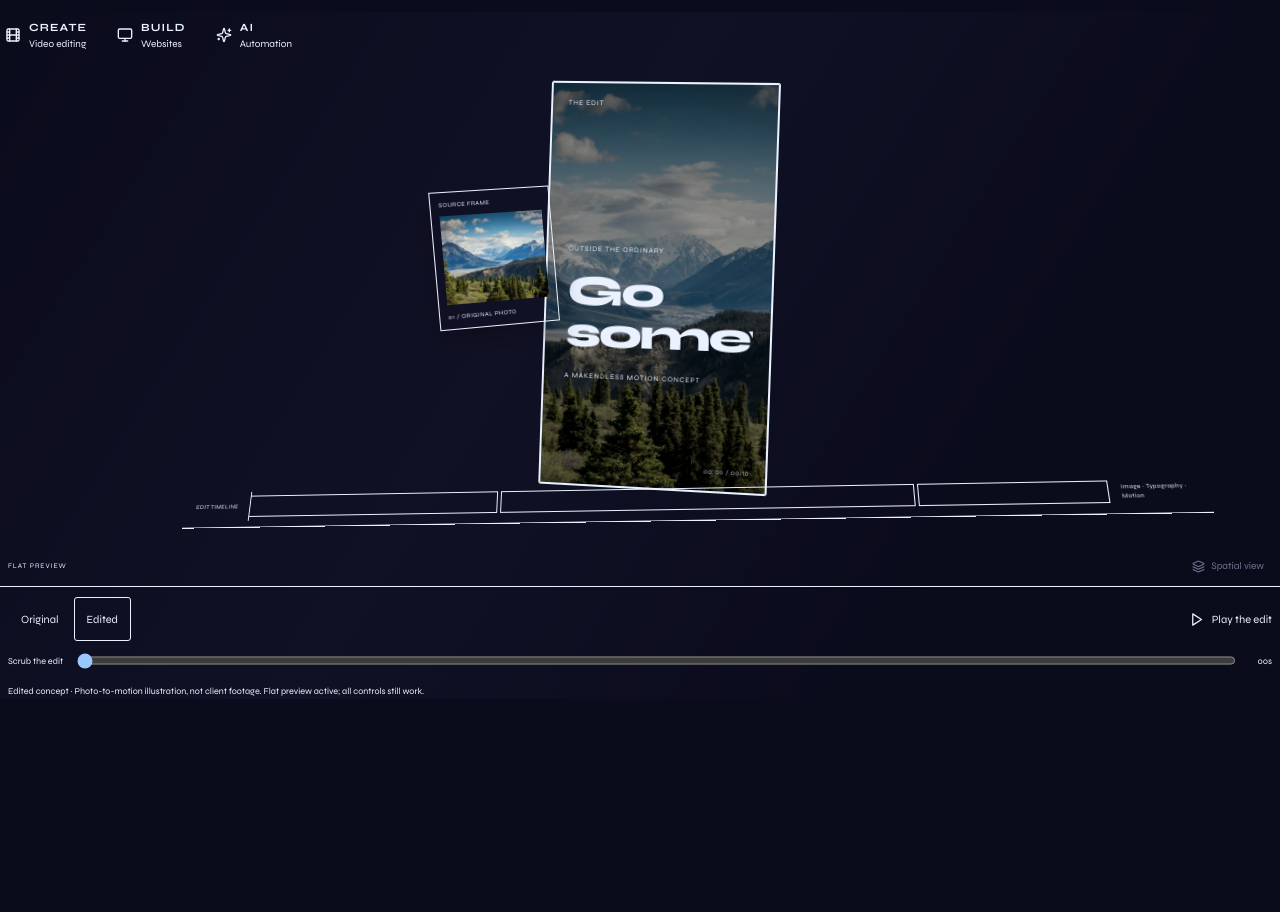
it: Living Showcase: service-led interactions and fallbacks › uses the homepage palette in the spatial preview and retains a working flat fallback
Earlier steps of the test are not shown.
Click the button "Original" at (40, 619), box [8,597,72,641]
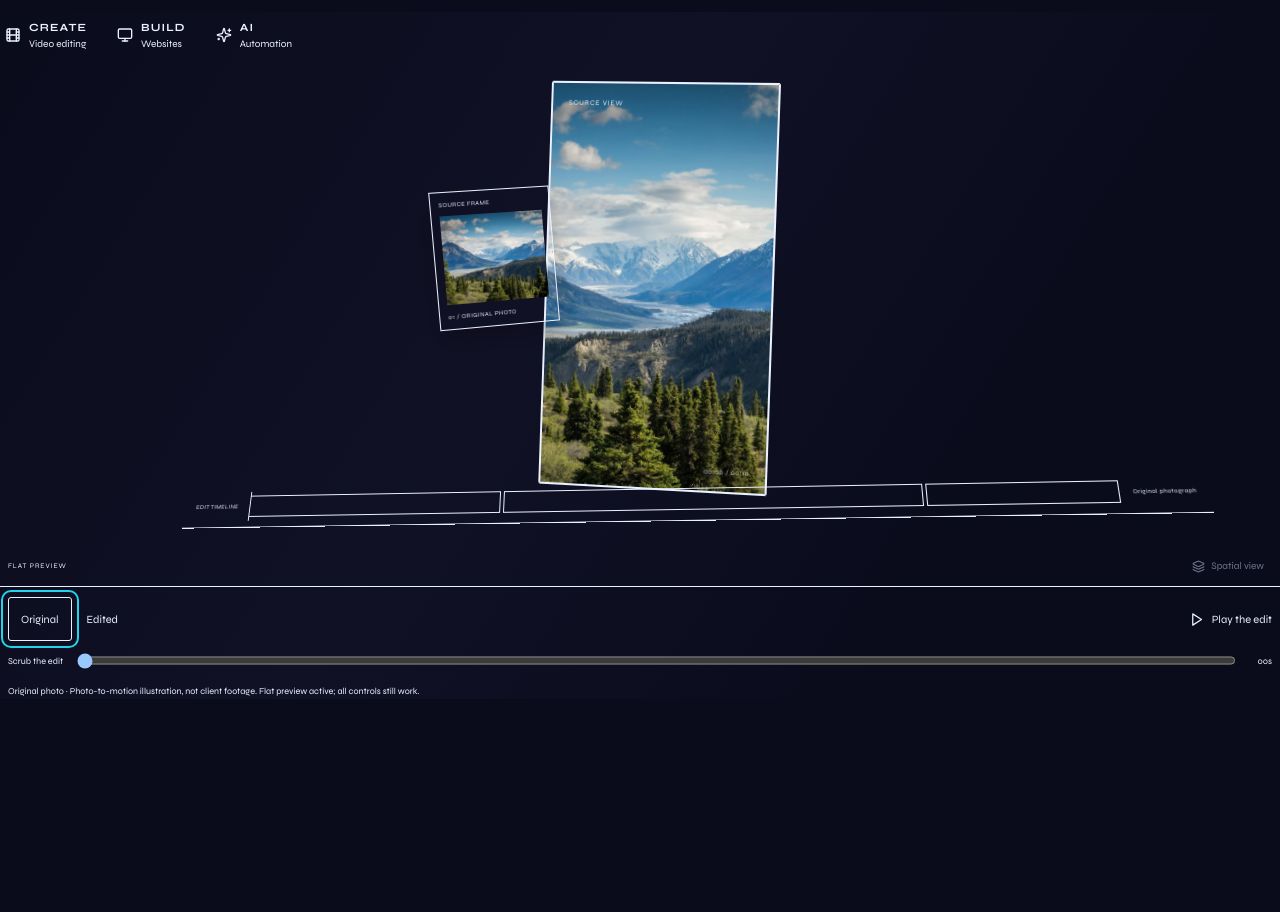
Now the message named "Showcase feedback" shows "Flat preview active", box [257,686,419,696]
Now the text "SOURCE VIEW" is shown, box [569,99,624,107]
